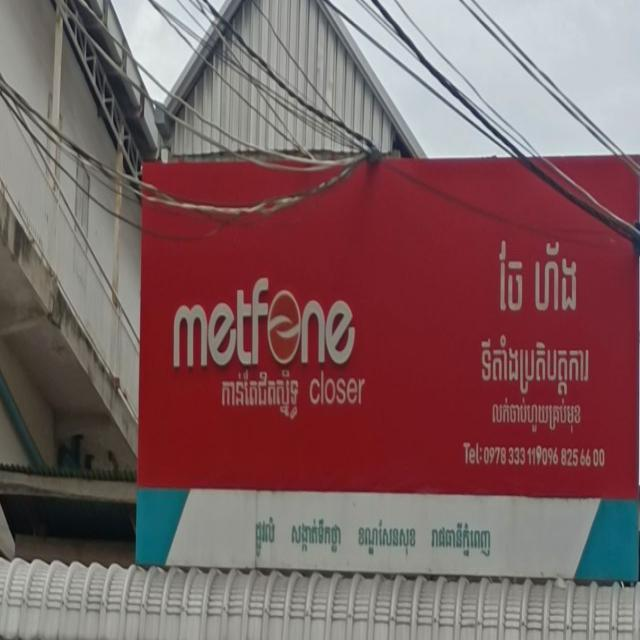Yolov11kh: (476, 331, 596, 401), (218, 365, 304, 423), (489, 398, 584, 435), (354, 515, 418, 563), (429, 519, 494, 559), (290, 516, 345, 557), (252, 515, 280, 563)
